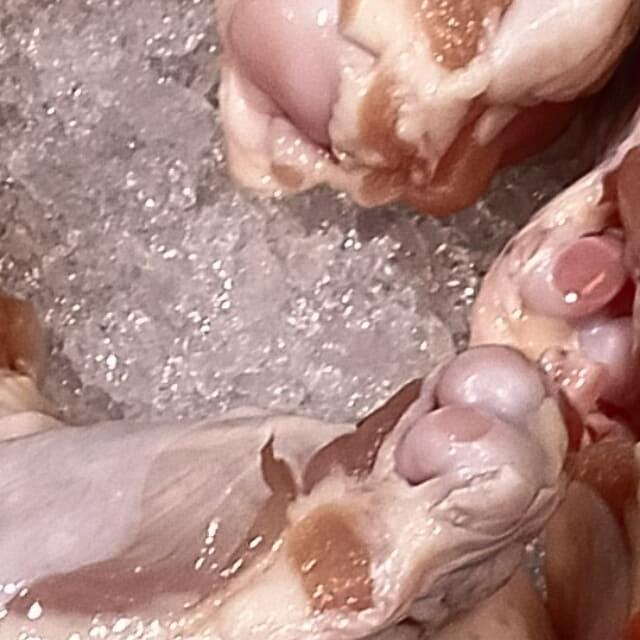chicken: (147, 0, 640, 248)
